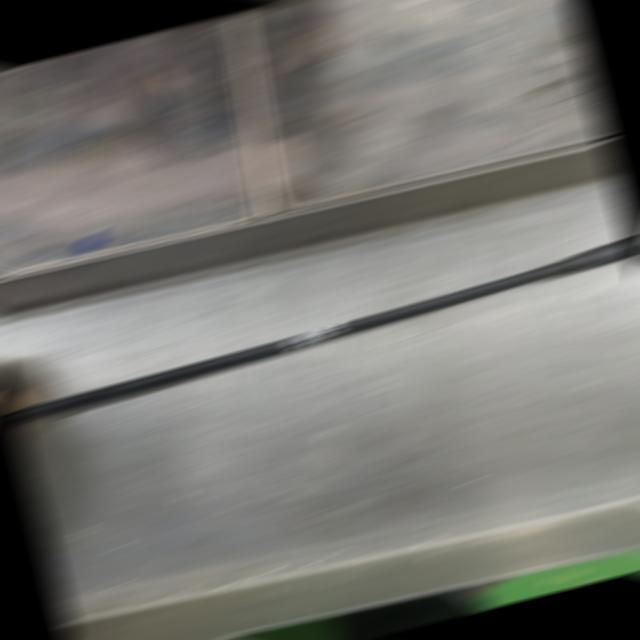white: (285, 327, 340, 347)
